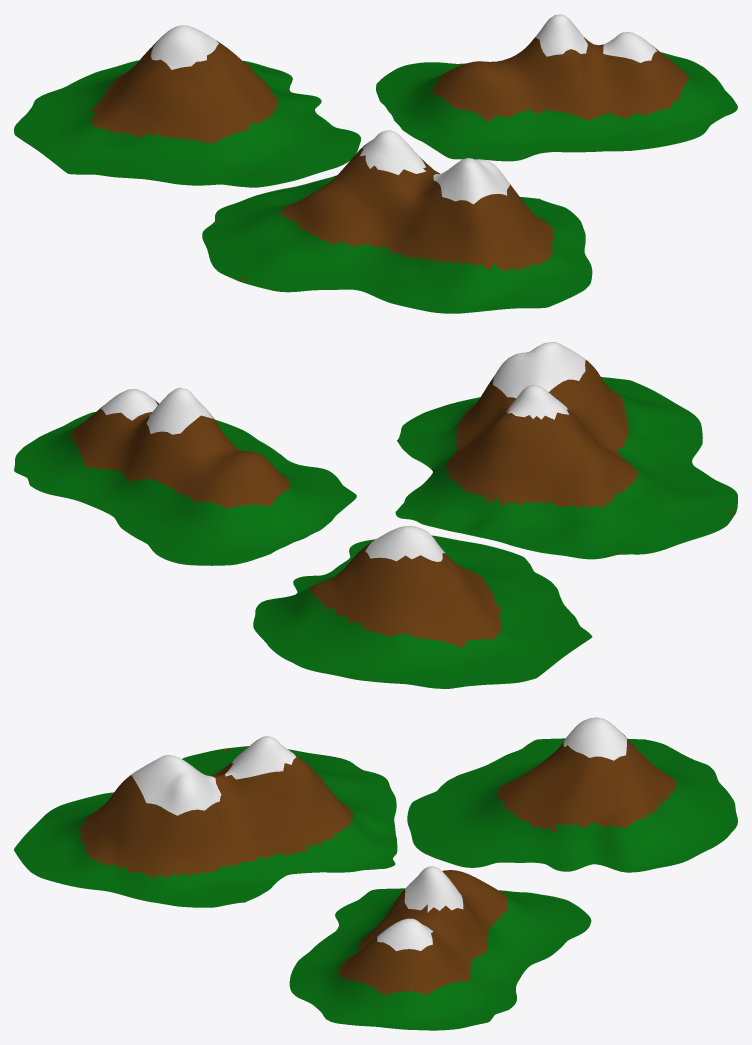
The model's file is mountains.glb.
3 renders of one model, top to bottom at view 1: azimuth 30°, elevation 25°; view 2: azimuth 150°, elevation 25°; view 3: azimuth 270°, elevation 25°, orthographic. The views are drawn at different scales.
Parts seen in each view (by area): view 1: mountain.003; view 2: mountain.003; view 3: mountain.003.
Boxes of the visible parts, left/top/right/bottom form: mountain.003: left=14, top=14, right=737, bottom=313; mountain.003: left=14, top=342, right=737, bottom=688; mountain.003: left=14, top=717, right=737, bottom=1030.
Size of the model in its own units: 1403 by 214 by 1474.
